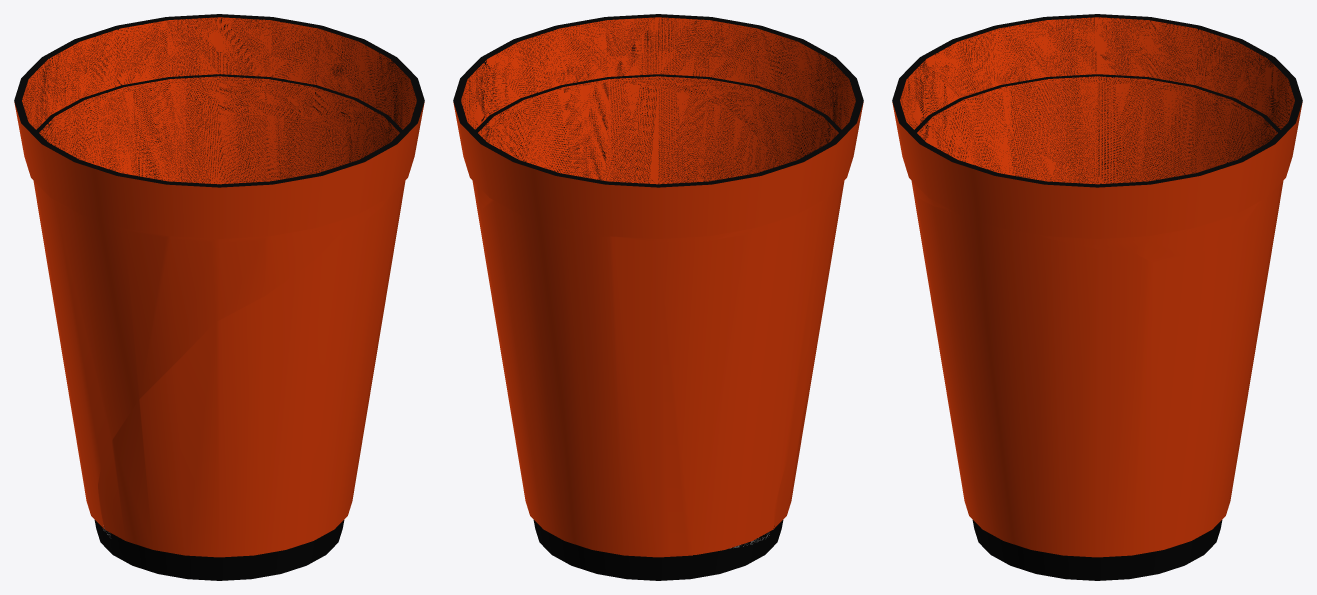
Rendered from cup_01_origin_gt_7.dae.
The picture shows the model from 3 angles, left to right: view 1: azimuth 30°, elevation 25°; view 2: azimuth 150°, elevation 25°; view 3: azimuth 270°, elevation 25°; orthographic projection.
Visible parts, largest first — view 1: group_0 (×5); view 2: group_0 (×5); view 3: group_0 (×5).
Part boxes in pixels (x1,y1,x2,y2): group_0 (×5): (14,14,424,580); group_0 (×5): (453,14,863,580); group_0 (×5): (892,14,1302,580).
Bounding box in the file's own units: 2.83 × 2.83 × 3.26.
